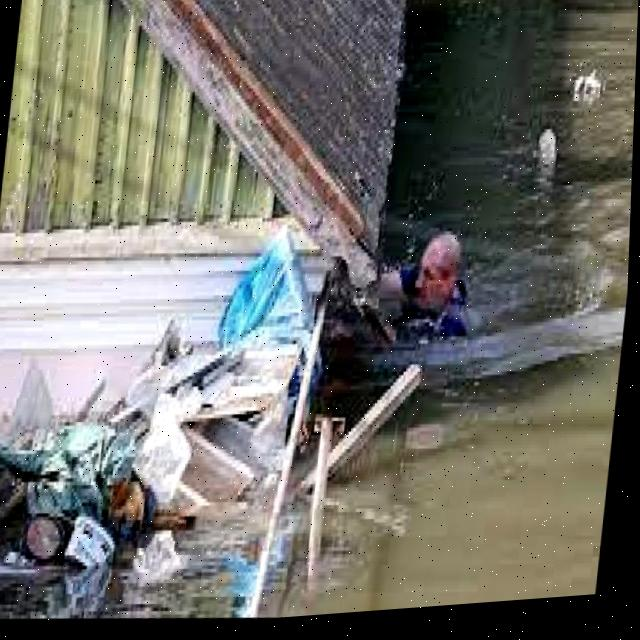civilian: (360, 212, 499, 370)
